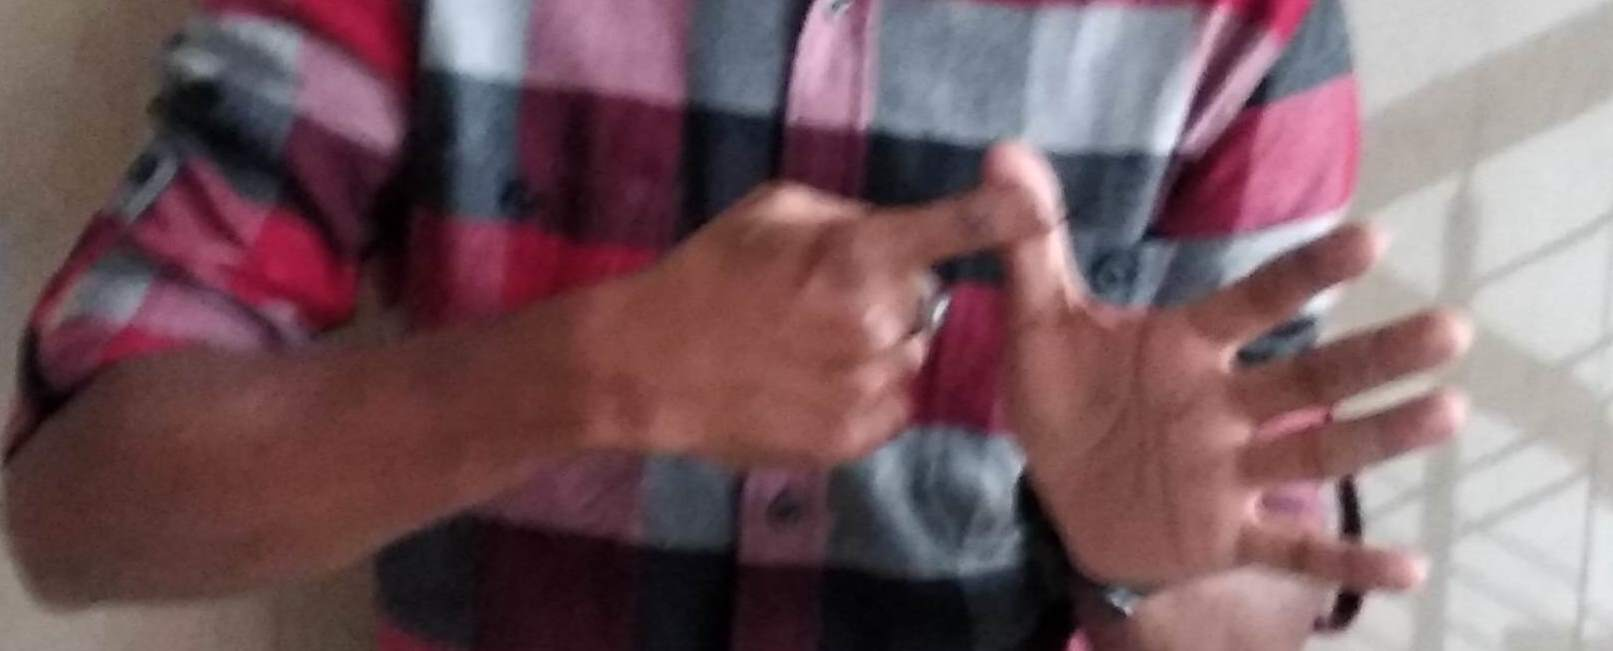a: (634, 156, 1413, 585)
